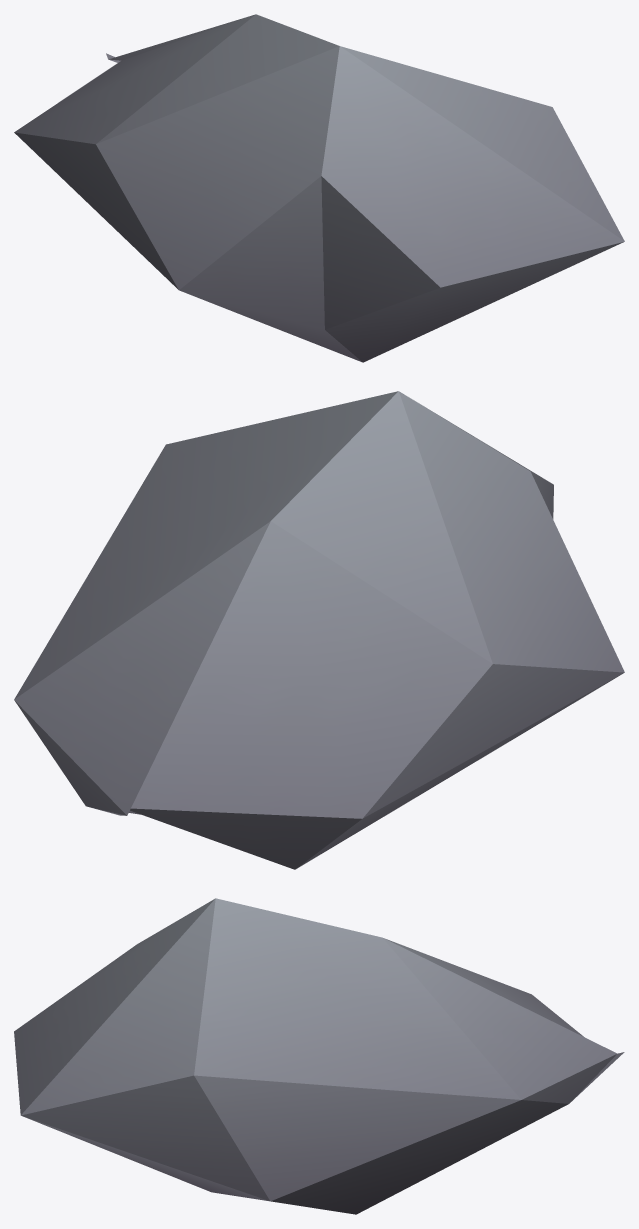
File: rock_1_05.fbx
3 views of the same model, one above another, from view 1: azimuth 30°, elevation 25°; view 2: azimuth 150°, elevation 25°; view 3: azimuth 270°, elevation 25° (orthographic). The views are drawn at different scales.
Parts seen in each view (by area): view 1: rock_1_05; view 2: rock_1_05; view 3: rock_1_05.
Boxes of the visible parts, x1,y1,x2,y2 form: rock_1_05: (14,14,624,362); rock_1_05: (14,391,624,869); rock_1_05: (14,898,624,1214).
Size of the model in its own units: 7.73 by 6.09 by 11.85.
